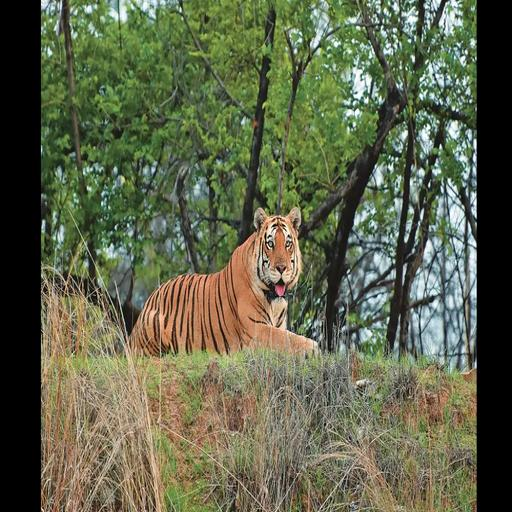Tiger: (125, 209, 326, 360)
